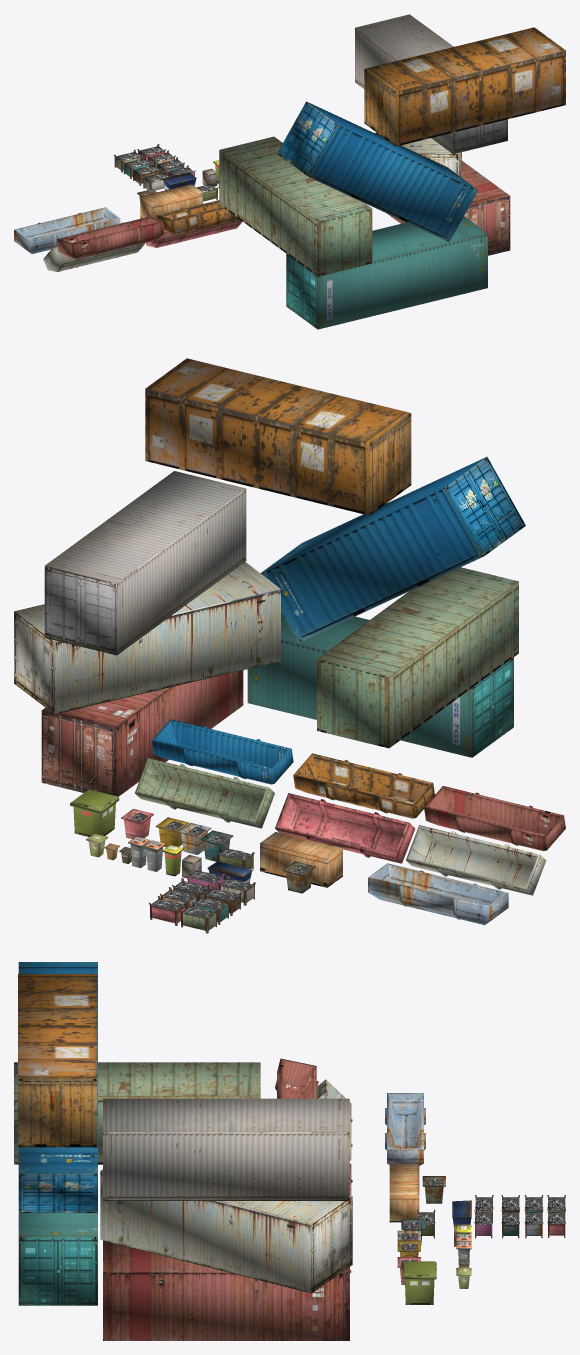
Rendered from containerPack.fbx.
The picture shows the model from 3 angles, top to bottom: view 1: azimuth 30°, elevation 25°; view 2: azimuth 150°, elevation 25°; view 3: azimuth 270°, elevation 25°; orthographic projection. The views are drawn at different scales.
Visible parts, largest first — view 1: MetalContainerBigYellow, MetalContainerBigGreen, MetalContainerBigBlue, MetalContainerBigGreen_2, MetalContainerBigWhite, MetalContainerBigRed, MetalContainerMediumRed_004, MetalContainerMediumBlue, MetalContainerMediumRed_005, container_wood, MetalContainerMediumRed_002, MetalContainerBigWhite2 (+2 smaller); view 2: MetalContainerBigYellow, MetalContainerBigWhite, MetalContainerBigGreen_2, MetalContainerBigBlue, MetalContainerBigWhite2, MetalContainerBigRed, MetalContainerBigGreen, MetalContainerMediumRed_002, MetalContainerMediumRed_001, MetalContainerMediumRed, MetalContainerMediumRed_003, MetalContainerMediumRed_004 (+7 smaller); view 3: MetalContainerBigWhite, MetalContainerBigRed, MetalContainerBigWhite2, MetalContainerBigYellow, MetalContainerBigGreen, MetalContainerBigGreen_2, MetalContainerBigBlue, MetalContainerMediumBlue, container_wood, MetalContainerMediumRed_004, container_plastic, MetalContainerTrash (+2 smaller).
Boxes of the visible parts, box(x1,y1,x2,y2) form: MetalContainerBigYellow: box(364, 27, 565, 146); MetalContainerBigGreen: box(286, 216, 487, 329); MetalContainerBigBlue: box(277, 101, 478, 241); MetalContainerBigGreen_2: box(219, 136, 372, 276); MetalContainerBigWhite: box(355, 14, 507, 154); MetalContainerBigRed: box(374, 132, 510, 255); MetalContainerMediumRed_004: box(57, 217, 164, 259); MetalContainerMediumBlue: box(14, 207, 120, 253); MetalContainerMediumRed_005: box(157, 200, 239, 235); container_wood: box(140, 184, 202, 219); MetalContainerMediumRed_002: box(43, 243, 144, 271); MetalContainerBigWhite2: box(401, 138, 461, 176); MetalContainerBigYellow: box(145, 358, 411, 515); MetalContainerBigWhite: box(44, 471, 246, 655); MetalContainerBigGreen_2: box(317, 567, 518, 748); MetalContainerBigBlue: box(260, 456, 525, 642); MetalContainerBigWhite2: box(14, 562, 280, 714); MetalContainerBigRed: box(41, 670, 243, 796); MetalContainerBigGreen: box(247, 612, 513, 757); MetalContainerMediumRed_002: box(406, 825, 546, 895); MetalContainerMediumRed_001: box(134, 758, 274, 828); MetalContainerMediumRed: box(275, 793, 415, 863); MetalContainerMediumRed_003: box(151, 719, 293, 784); MetalContainerMediumRed_004: box(424, 786, 565, 851); MetalContainerBigWhite: box(103, 1098, 349, 1200); MetalContainerBigRed: box(103, 1240, 349, 1340); MetalContainerBigWhite2: box(100, 1169, 352, 1293); MetalContainerBigYellow: box(18, 974, 97, 1147); MetalContainerBigGreen: box(18, 1213, 97, 1305); MetalContainerBigGreen_2: box(14, 1062, 260, 1164); MetalContainerBigBlue: box(18, 962, 97, 1212); MetalContainerMediumBlue: box(385, 1093, 425, 1165); container_wood: box(389, 1164, 419, 1222); MetalContainerMediumRed_004: box(275, 1058, 318, 1098); container_plastic: box(402, 1261, 436, 1304); MetalContainerTrash: box(422, 1176, 445, 1203).
Bounding box in the file's own units: 39.59 × 20.54 × 37.21.
1 material, 1 textured.
